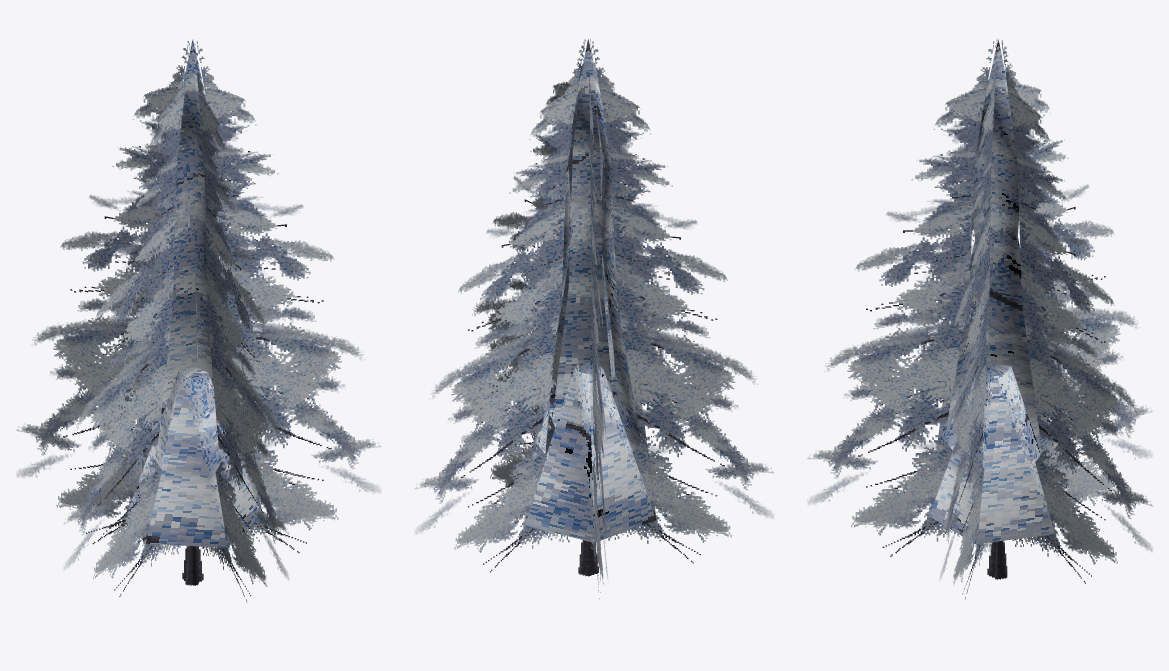
Rendered from ykp_optimized_snowtree.glb.
3 renders of one model, left to right at view 1: azimuth 30°, elevation 25°; view 2: azimuth 150°, elevation 25°; view 3: azimuth 270°, elevation 25°, orthographic.
Parts seen in each view (by area): view 1: tree_snowy; view 2: tree_snowy; view 3: tree_snowy.
Boxes of the visible parts, box(x1,y1,x2,y2) form: tree_snowy: box(16, 39, 381, 602); tree_snowy: box(414, 38, 773, 598); tree_snowy: box(807, 38, 1152, 599).
Bounding box in the file's own units: 2.73 × 4.61 × 2.6.
Materials: 2 (2 with a texture image).
